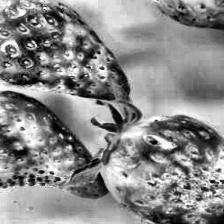Powdery Mildew Fruit: (99, 114, 224, 224), (0, 0, 132, 100), (0, 90, 110, 200)
